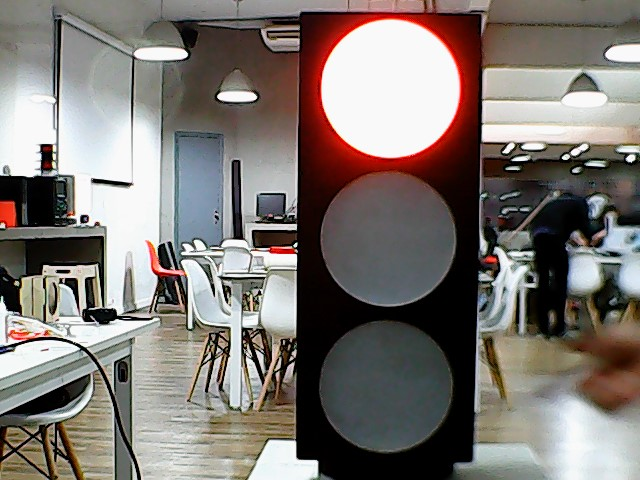vermelho: (292, 8, 486, 478)
